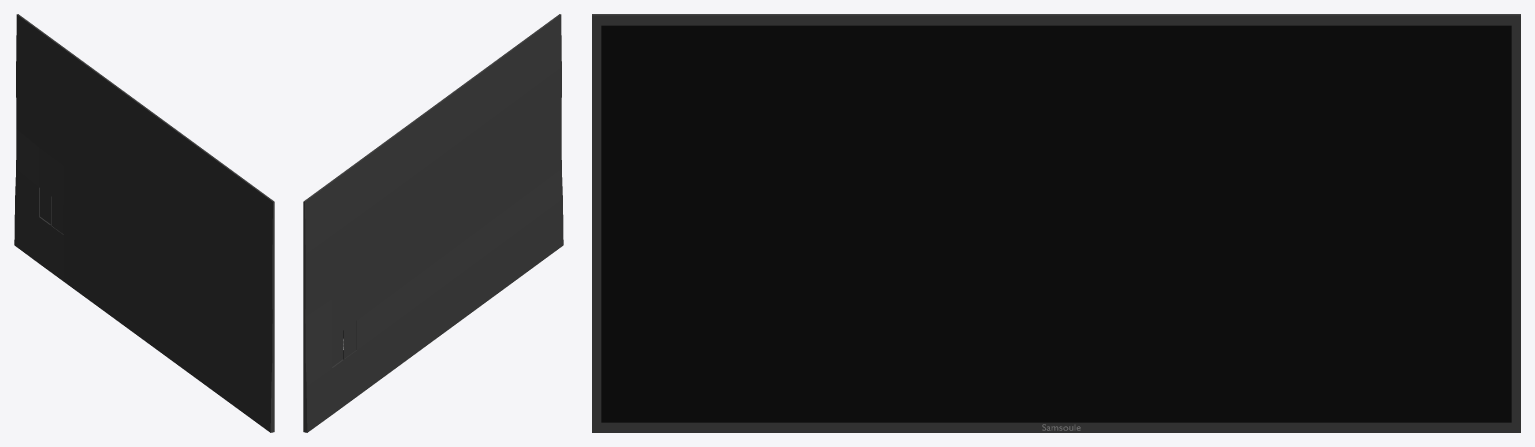
The picture shows the model from 3 angles, left to right: view 1: azimuth 30°, elevation 25°; view 2: azimuth 150°, elevation 25°; view 3: azimuth 270°, elevation 25°; orthographic projection. The views are drawn at different scales.
Parts seen in each view (by area): view 1: tv_Text; view 2: tv_Text; view 3: tv_Text.
Boxes of the visible parts, box(x1,y1,x2,y2) form: tv_Text: box(14, 14, 274, 432); tv_Text: box(303, 14, 563, 432); tv_Text: box(592, 14, 1520, 432).
Size of the model in its own units: 0.2045 by 10.89 by 21.94.
Materials: 1 (1 with a texture image).
